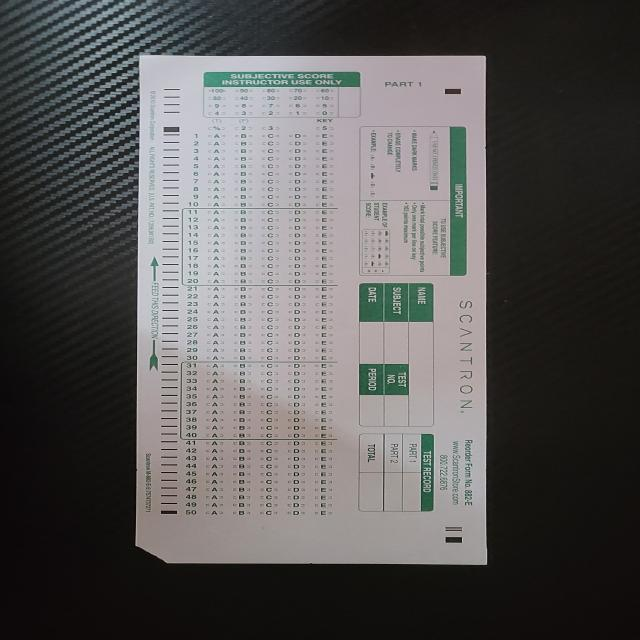scantron: (134, 55, 487, 565)
